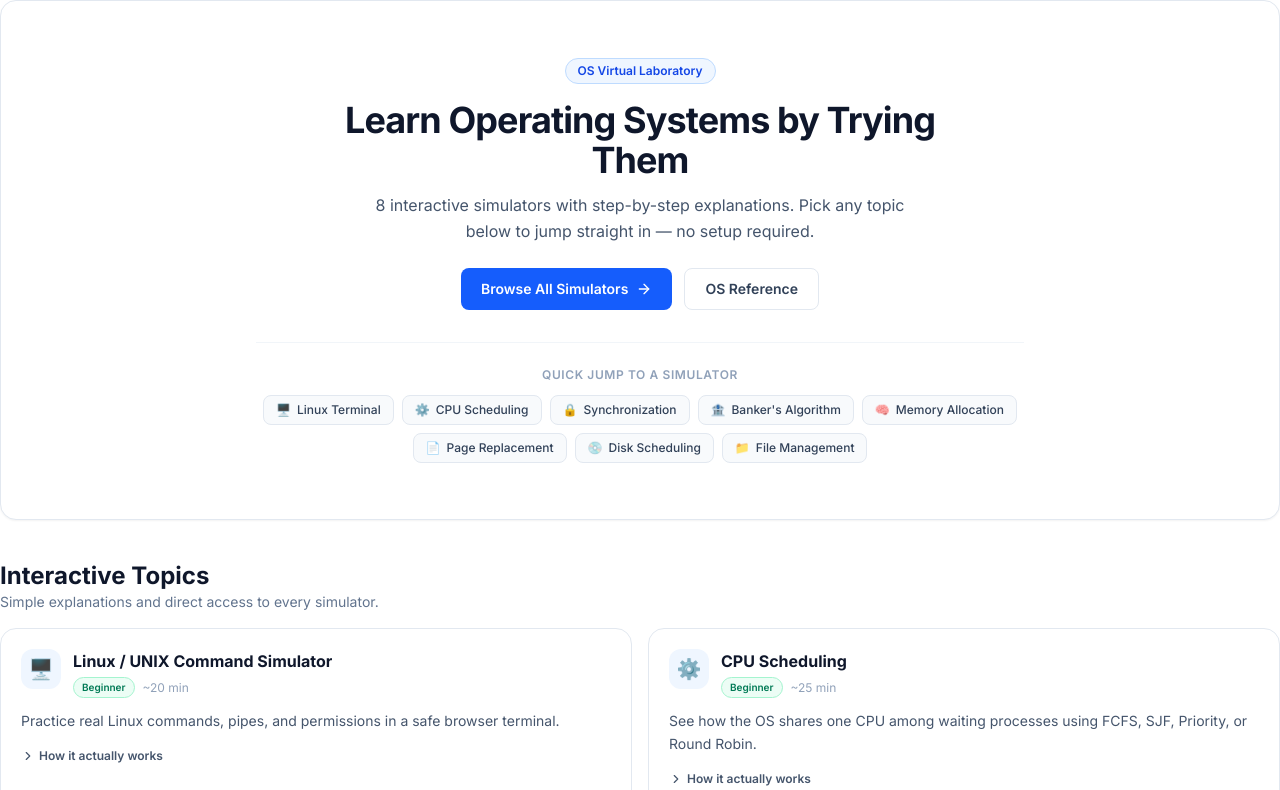
HomePage › renders all 8 topic cards, quick-jump shortcuts, and expandable explanations
The image size is (1280, 790).
expect the heading "Learn Operating Systems by Trying Them" is shown: met, box [304,100,976,180]
expect the heading "Linux / UNIX Command Simulator" is shown: met, box [73,649,332,673]
Click the button "How it actually works" below "Linux / UNIX Command Simulator".
click(92, 756)  # box [21,748,163,764]
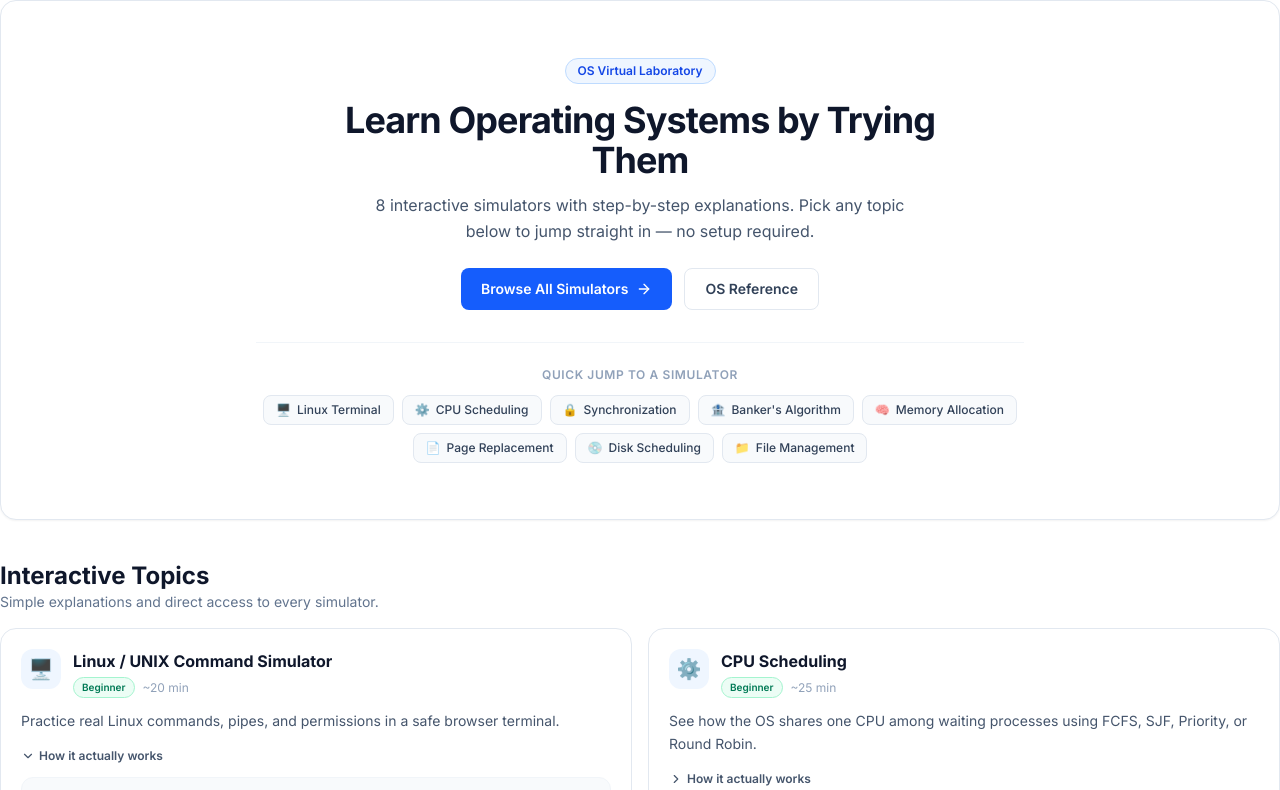
expect the button "How it actually works" below "Linux / UNIX Command Simulator" is expanded: met, box [21,748,163,764]
